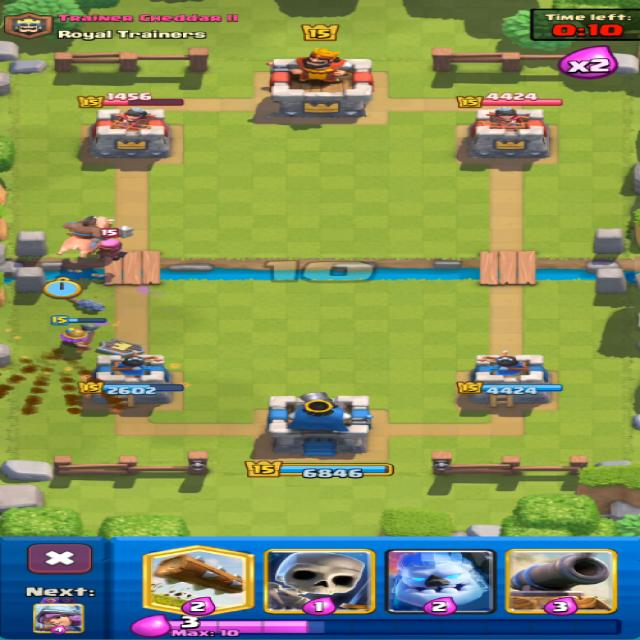Enemy-Firecracker: (97, 229, 124, 260)
Enemy-KingTower: (269, 49, 372, 116)
Enemy-PrincessTower: (467, 107, 549, 162), (91, 107, 169, 157)
Player-HogRider: (58, 216, 132, 257)
Player-KingTower-Activated: (268, 392, 371, 457)
Player-Musketeer: (50, 316, 108, 351)
Player-PrincessTower: (458, 351, 561, 407), (78, 354, 183, 405)
